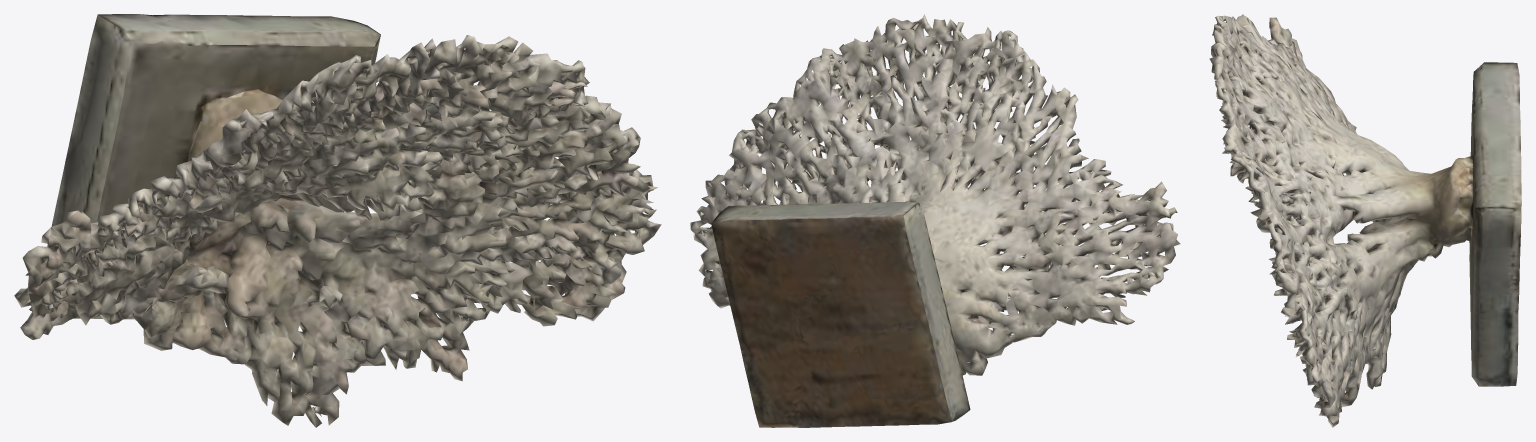
The model's file is usnm_229-20k-thumb.glb.
The picture shows the model from 3 angles, left to right: view 1: azimuth 30°, elevation 25°; view 2: azimuth 150°, elevation 25°; view 3: azimuth 270°, elevation 25°; orthographic projection. The views are drawn at different scales.
Bounding box in the file's own units: 616 × 419 × 343.
1 material, 1 textured.
